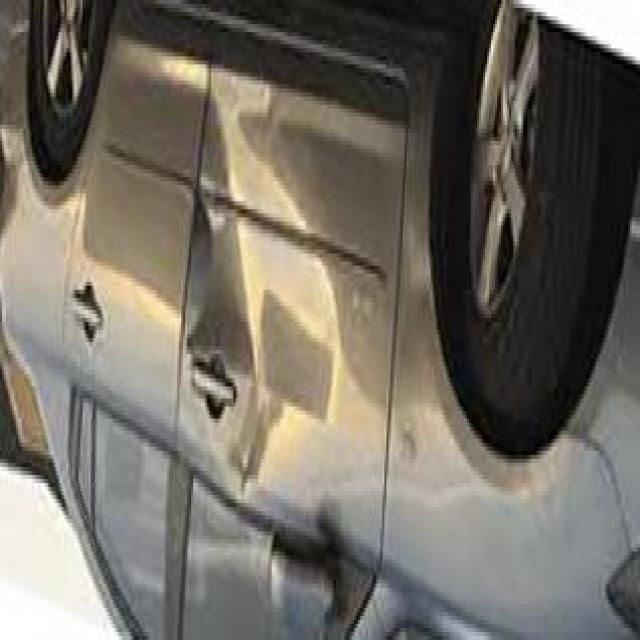dent: (188, 34, 357, 493)
